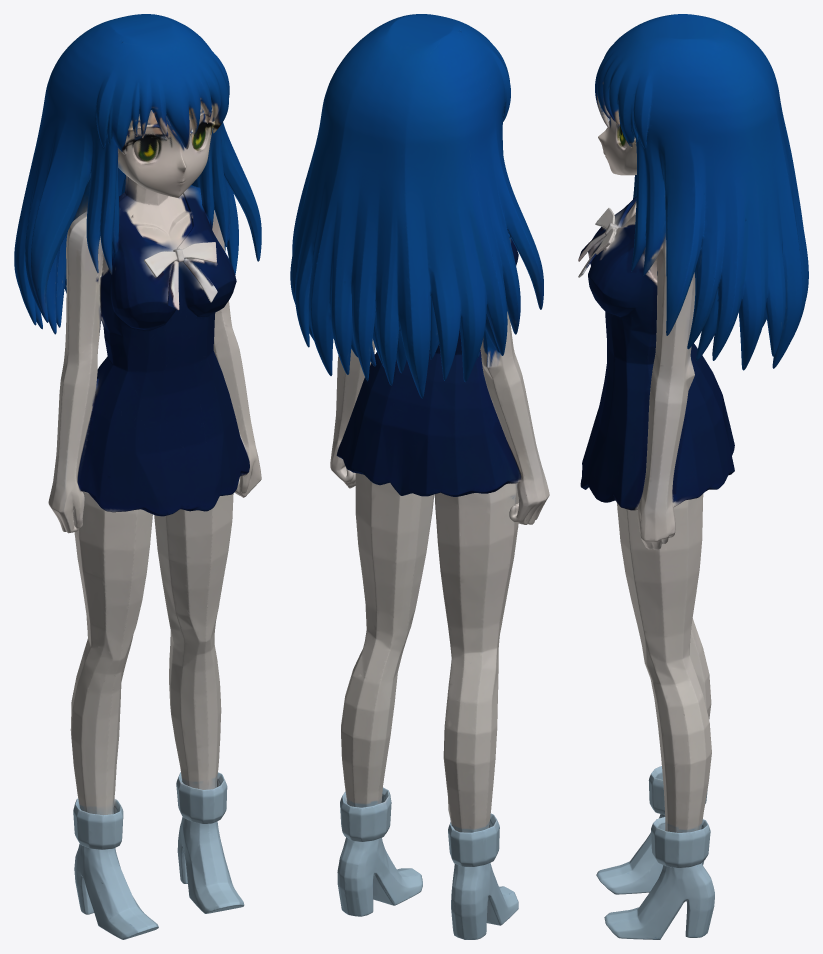
The model's file is HandToHandGrunt_10.glb.
3 views of the same model, side by side, from view 1: azimuth 30°, elevation 25°; view 2: azimuth 150°, elevation 25°; view 3: azimuth 270°, elevation 25° (orthographic). The views are drawn at different scales.
Parts seen in each view (by area): view 1: material; view 2: material; view 3: material.
Part boxes in pixels (box(x1,y1,x2,y2)): material: box(14, 14, 261, 939); material: box(290, 14, 549, 939); material: box(578, 14, 808, 939).
Size of the model in its own units: 0.319 by 1.17 by 0.2789.
Materials: 1 (1 with a texture image).
